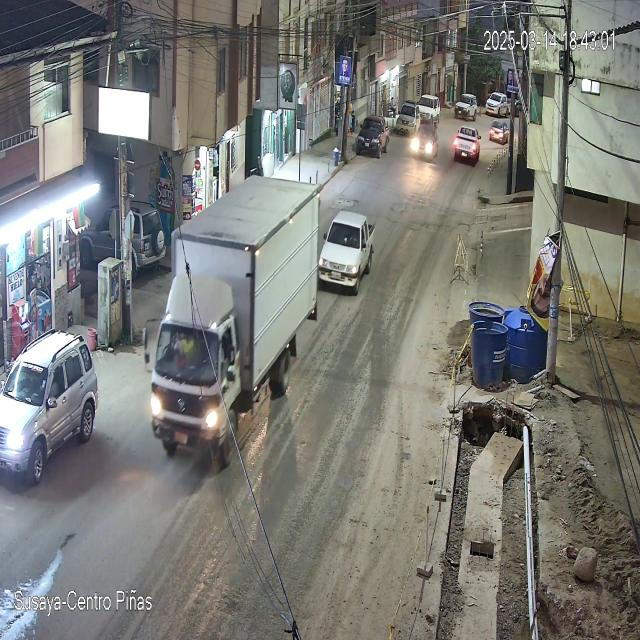CMT: (320, 209, 379, 294)
TRUCK: (151, 176, 322, 464)
